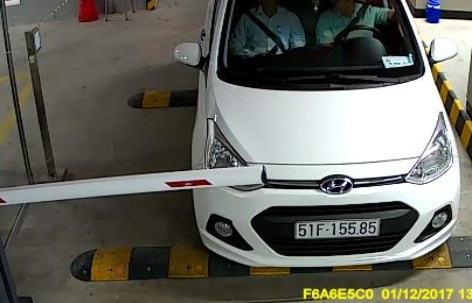plate: (290, 215, 380, 239)
